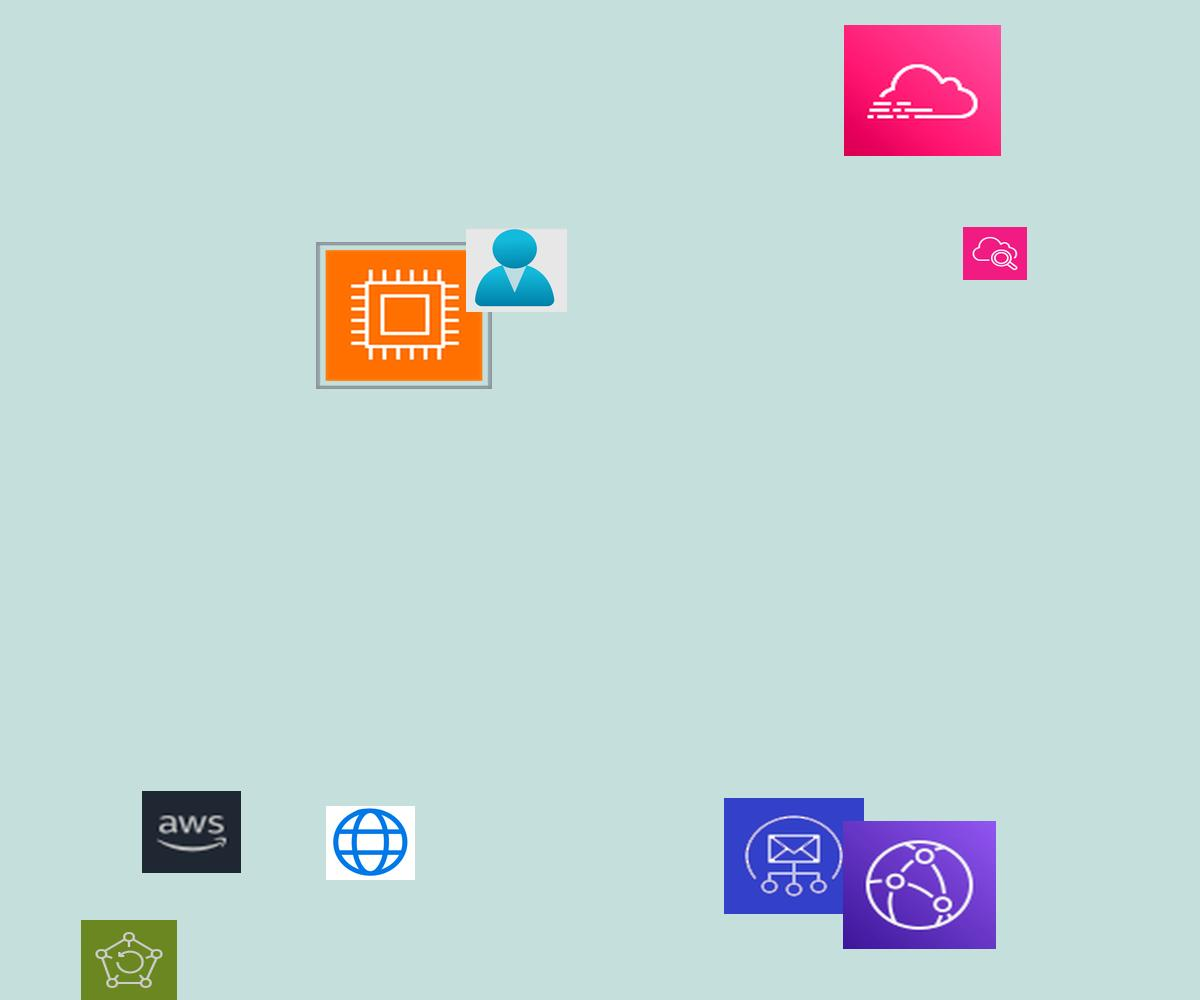AWS-Backup: (81, 920, 177, 1000)
AWS-Category_Compute: (316, 242, 492, 389)
AWS-Cloud-logo: (142, 791, 241, 873)
AWS-CloudFront: (843, 821, 996, 949)
AWS-CloudTrail: (844, 25, 1001, 156)
AWS-CloudWatch: (963, 227, 1027, 280)
AWS-Simple-Email-Service: (724, 798, 864, 914)
Azure_http: (326, 806, 415, 880)
Azure_users: (466, 228, 567, 312)
